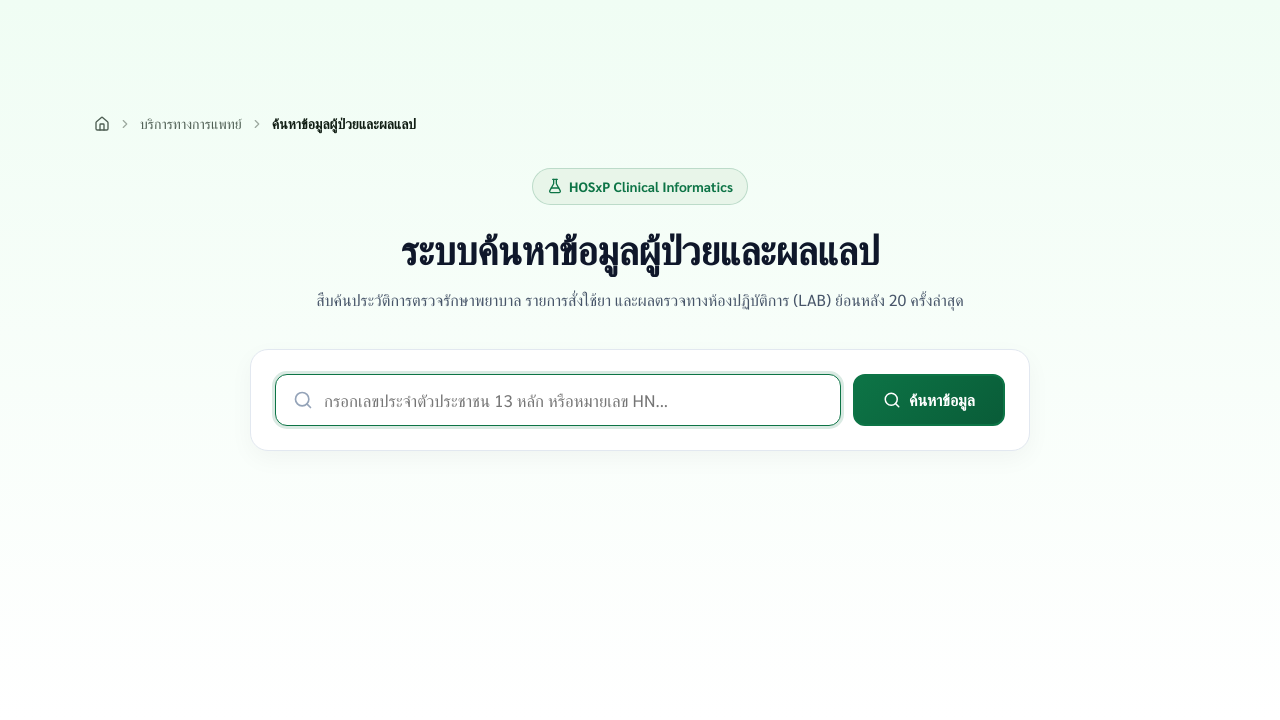
Test: LabSearchClient - B&W PDF & Document Print System › renders search input and allows searching for visits
The image size is (1280, 720).
In the field with placeholder "กรอกเลขประจำตัวประชาชน 13 หลัก หรือหมายเลข HN...": coordinates (558, 400) [275, 374, 841, 426], type "0012345"
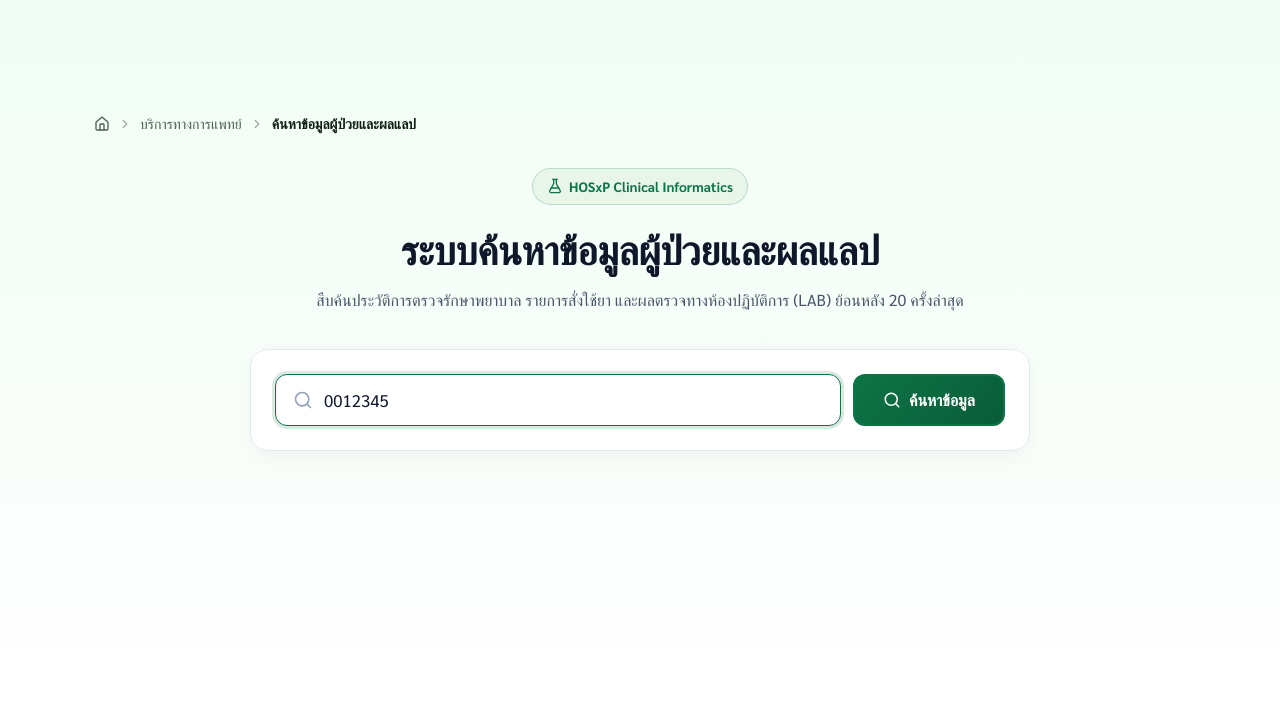
Click the button "ค้นหาข้อมูล": coordinates (929, 400) [853, 374, 1005, 426]
(page scrolled)
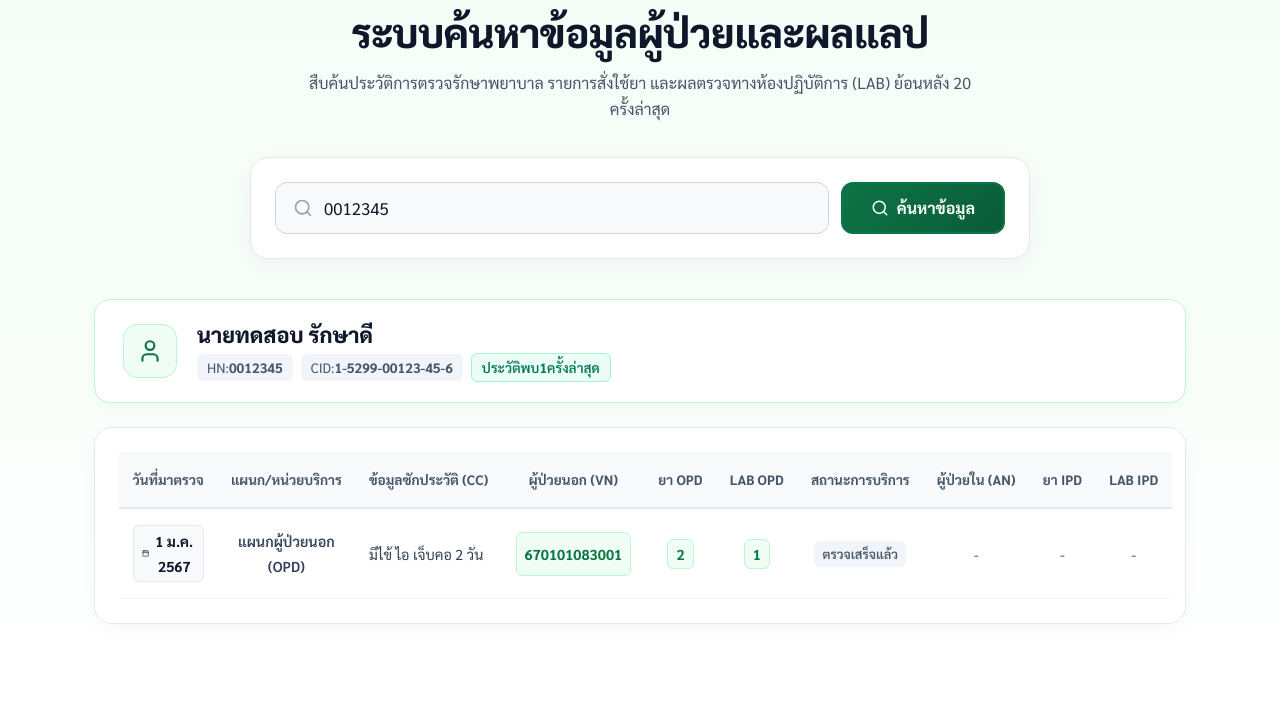
Now the heading "นายทดสอบ รักษาดี" is shown, box [197, 320, 373, 348]
Now the text "670101083001" is shown, box [525, 542, 622, 566]
